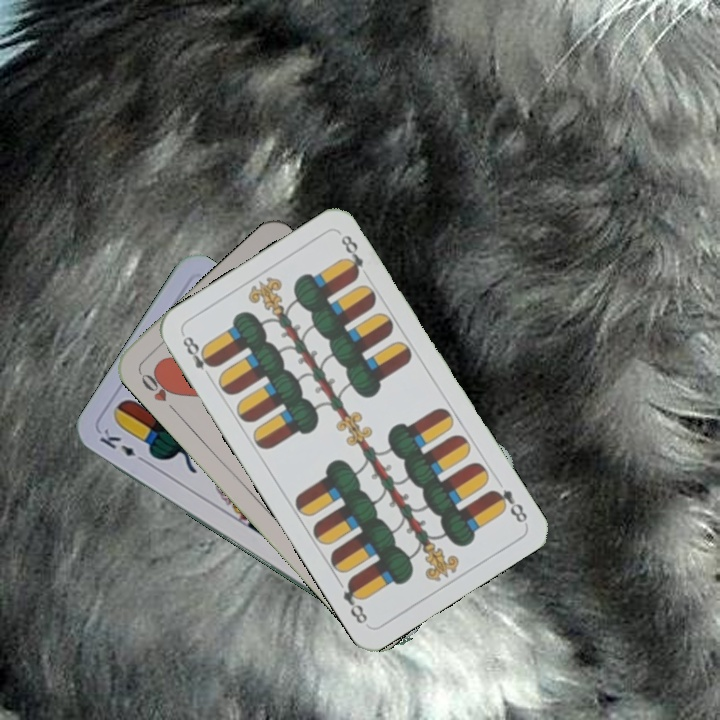E8: (178, 332, 218, 383), (486, 485, 530, 526)
EK: (95, 424, 150, 467)
HO: (135, 366, 180, 416)
